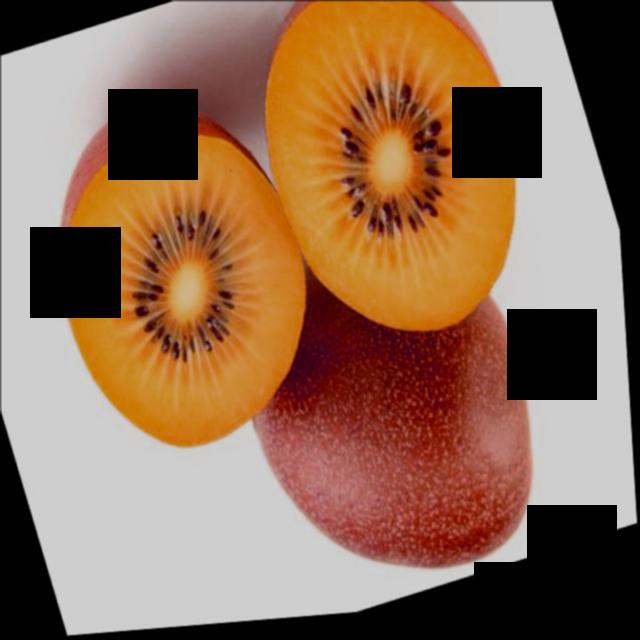kiwi: (216, 219, 575, 626)
